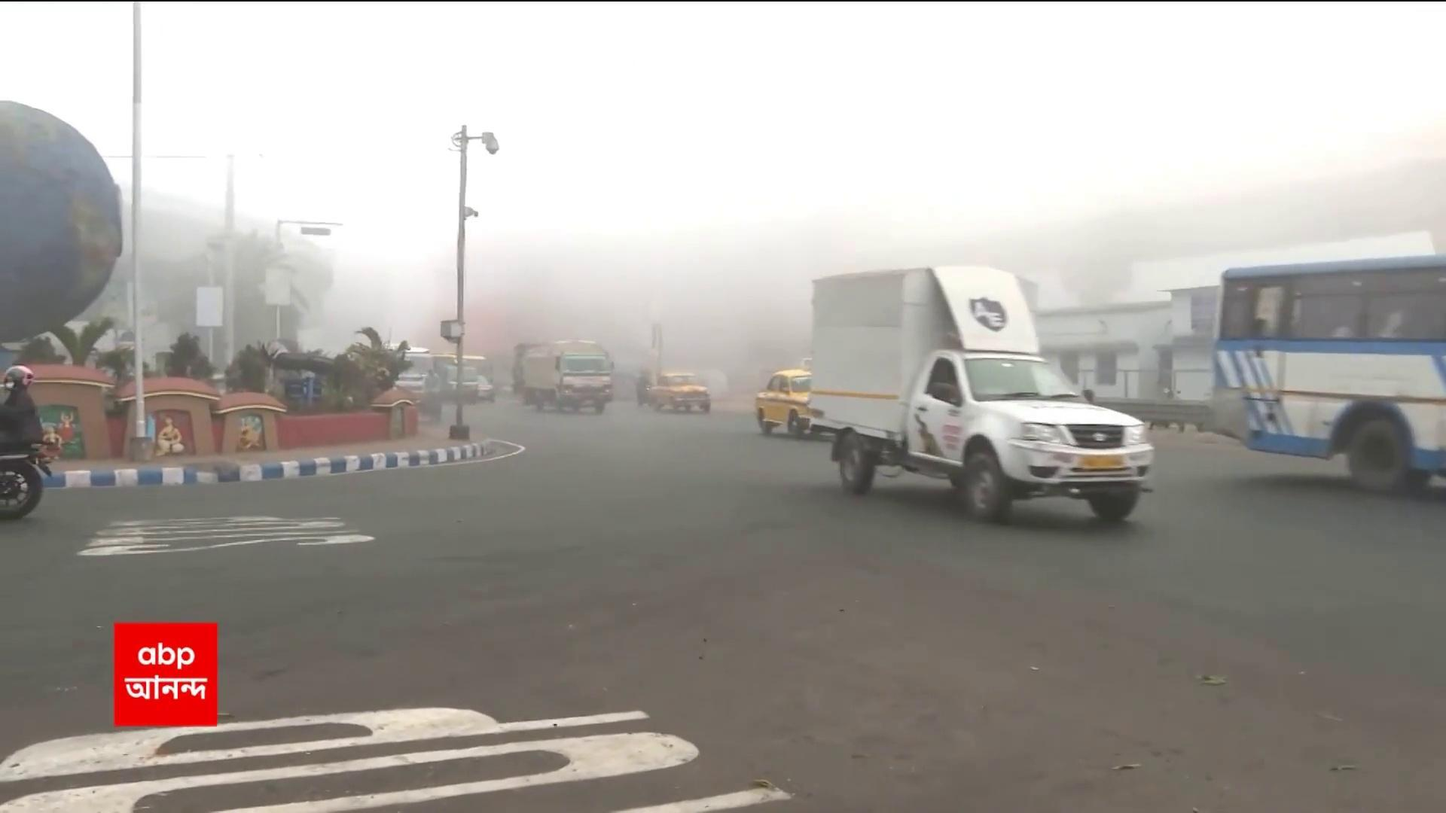Bus: (1210, 257, 1446, 486)
Car: (753, 364, 819, 435), (648, 364, 723, 420)
Truck: (802, 271, 1158, 530), (518, 332, 618, 419)
